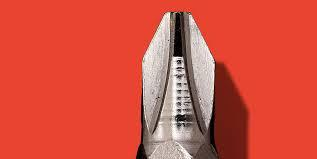screwdriver: (141, 9, 213, 158)
